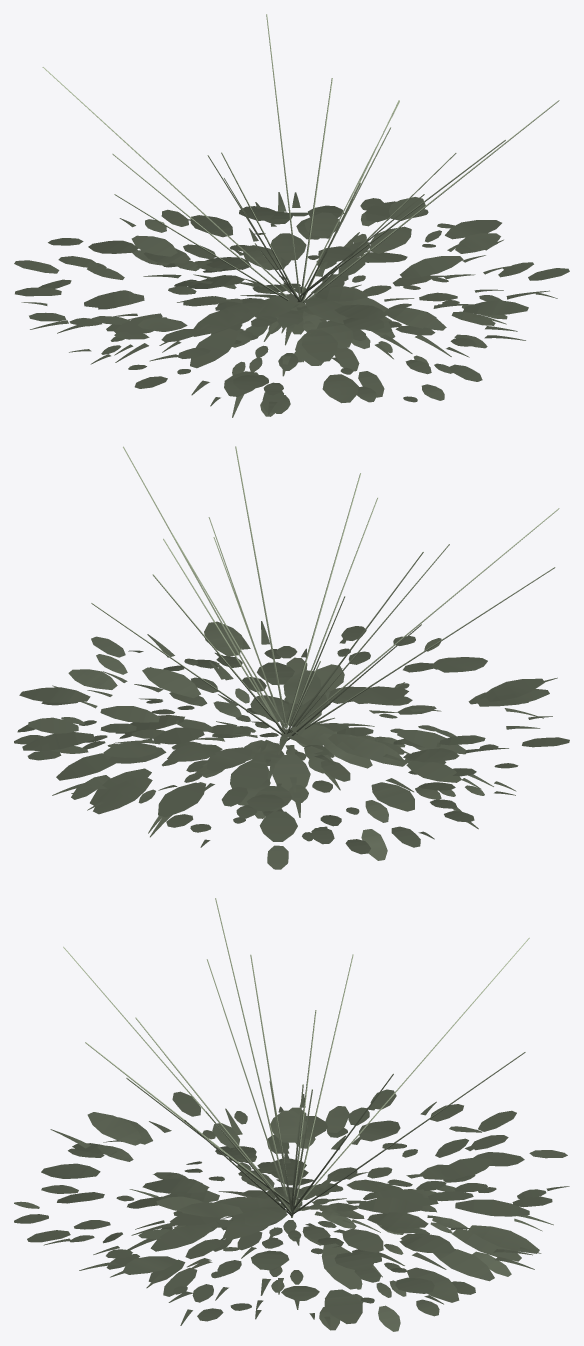
The model's file is herb_mat.glb.
The picture shows the model from 3 angles, top to bottom: view 1: azimuth 30°, elevation 25°; view 2: azimuth 150°, elevation 25°; view 3: azimuth 270°, elevation 25°; orthographic projection. The views are drawn at different scales.
Visible parts, largest first — view 1: v2_foliage, v3_foliage, v1_foliage, v5_foliage, v0_foliage, v4_foliage; view 2: v2_foliage, v3_foliage, v1_foliage, v5_foliage, v0_foliage, v4_foliage; view 3: v2_foliage, v3_foliage, v1_foliage, v0_foliage, v5_foliage, v4_foliage.
Boxes of the visible parts, x1,y1,x2,y2 form: v2_foliage: [84, 101, 528, 403]; v3_foliage: [14, 67, 569, 412]; v1_foliage: [69, 14, 533, 416]; v5_foliage: [30, 152, 549, 417]; v0_foliage: [97, 153, 459, 402]; v4_foliage: [21, 100, 559, 406]; v2_foliage: [19, 446, 549, 841]; v3_foliage: [27, 508, 569, 869]; v1_foliage: [14, 517, 528, 832]; v5_foliage: [52, 497, 557, 837]; v0_foliage: [61, 567, 555, 841]; v4_foliage: [23, 446, 552, 847]; v2_foliage: [41, 1042, 539, 1323]; v3_foliage: [27, 937, 567, 1321]; v1_foliage: [14, 959, 546, 1331]; v0_foliage: [14, 898, 496, 1303]; v5_foliage: [50, 954, 553, 1302]; v4_foliage: [43, 1089, 569, 1326].
Bounding box in the file's own units: 2.38 × 1 × 2.38.
